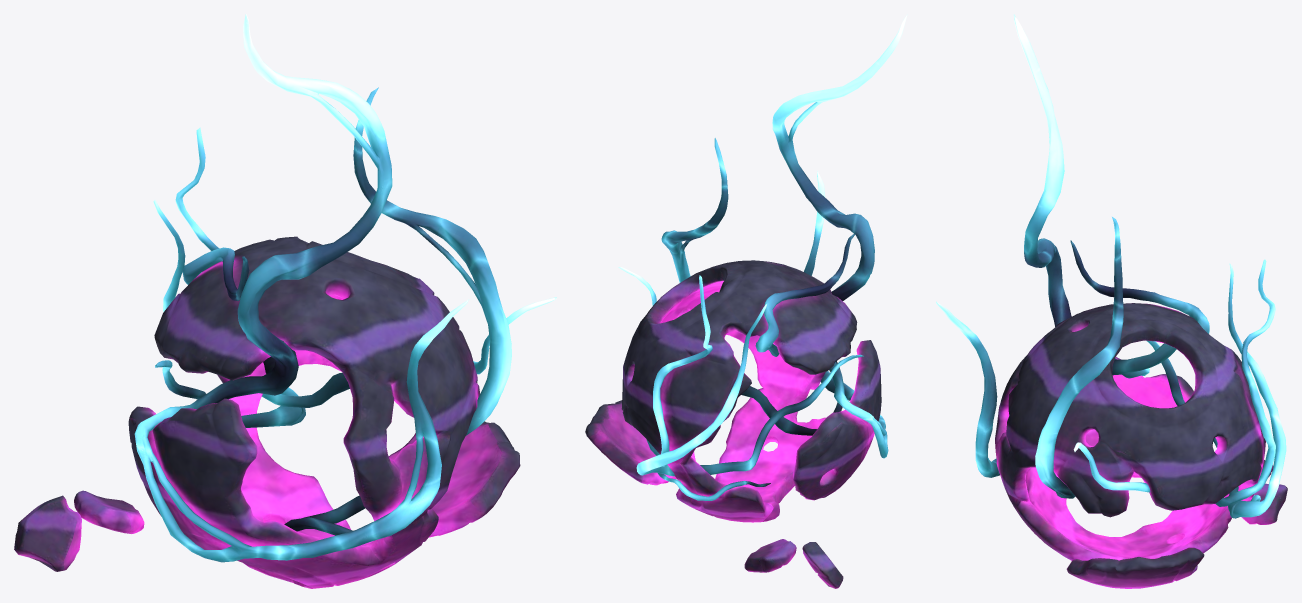
The model's file is caos_drs_chaospot_01c_v35.glb.
3 views of the same model, side by side, from view 1: azimuth 30°, elevation 25°; view 2: azimuth 150°, elevation 25°; view 3: azimuth 270°, elevation 25° (orthographic). The views are drawn at different scales.
Parts seen in each view (by area): view 1: caos_drs_chaospot_01c; view 2: caos_drs_chaospot_01c; view 3: caos_drs_chaospot_01c.
Boxes of the visible parts, x1,y1,x2,y2 form: caos_drs_chaospot_01c: (14, 14, 556, 588); caos_drs_chaospot_01c: (585, 14, 907, 588); caos_drs_chaospot_01c: (936, 14, 1287, 588).
Bounding box in the file's own units: 2.01 × 3 × 1.9.
2 materials, 2 textured.
